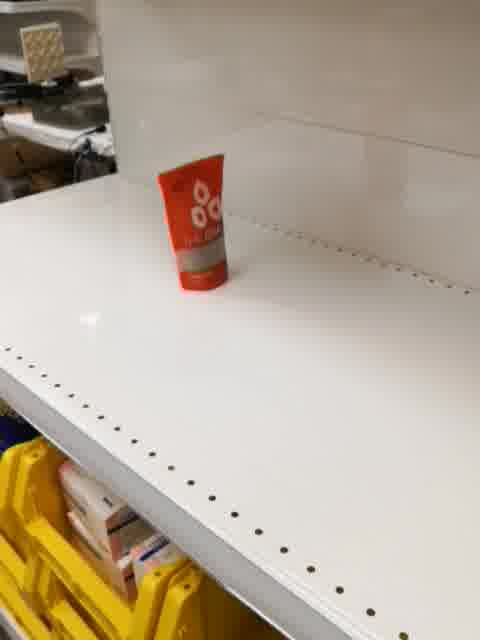whitechia: (155, 149, 232, 292)
